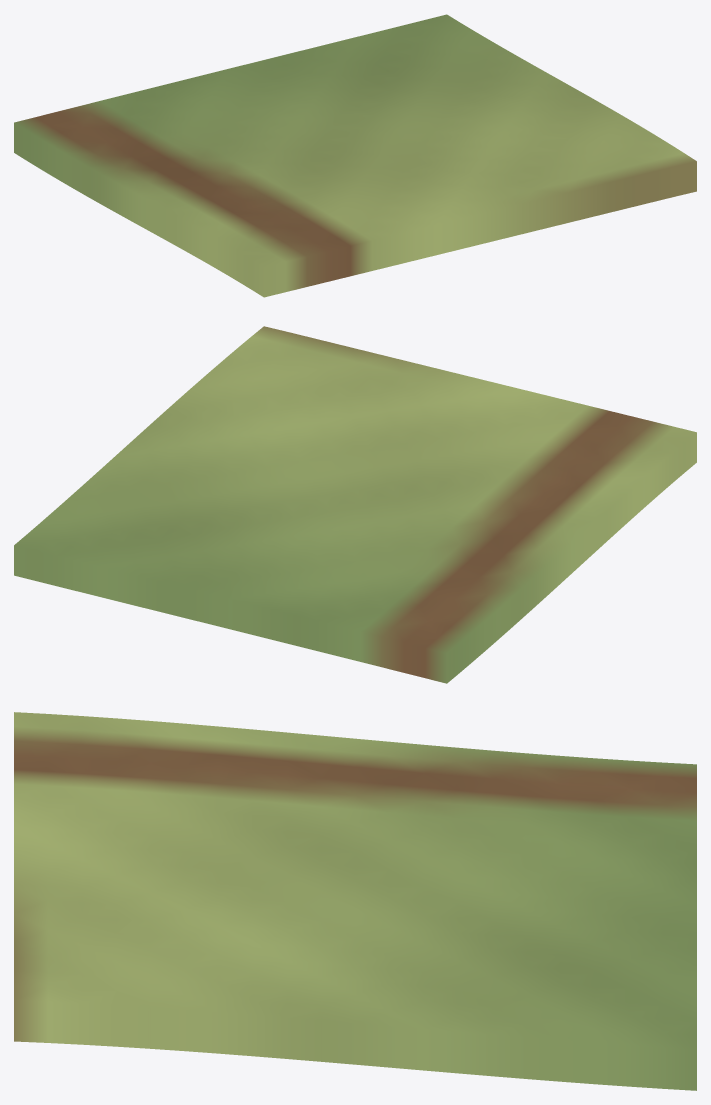
3 renders of one model, top to bottom at view 1: azimuth 30°, elevation 25°; view 2: azimuth 150°, elevation 25°; view 3: azimuth 270°, elevation 25°, orthographic. The views are drawn at different scales.
Visible parts, largest first — view 1: terrain; view 2: terrain; view 3: terrain.
Part boxes in pixels (x1,y1,x2,y2): terrain: [14, 14, 696, 297]; terrain: [14, 326, 696, 683]; terrain: [14, 712, 696, 1090].
Size of the model in its own units: 30 by 4.57 by 30.
